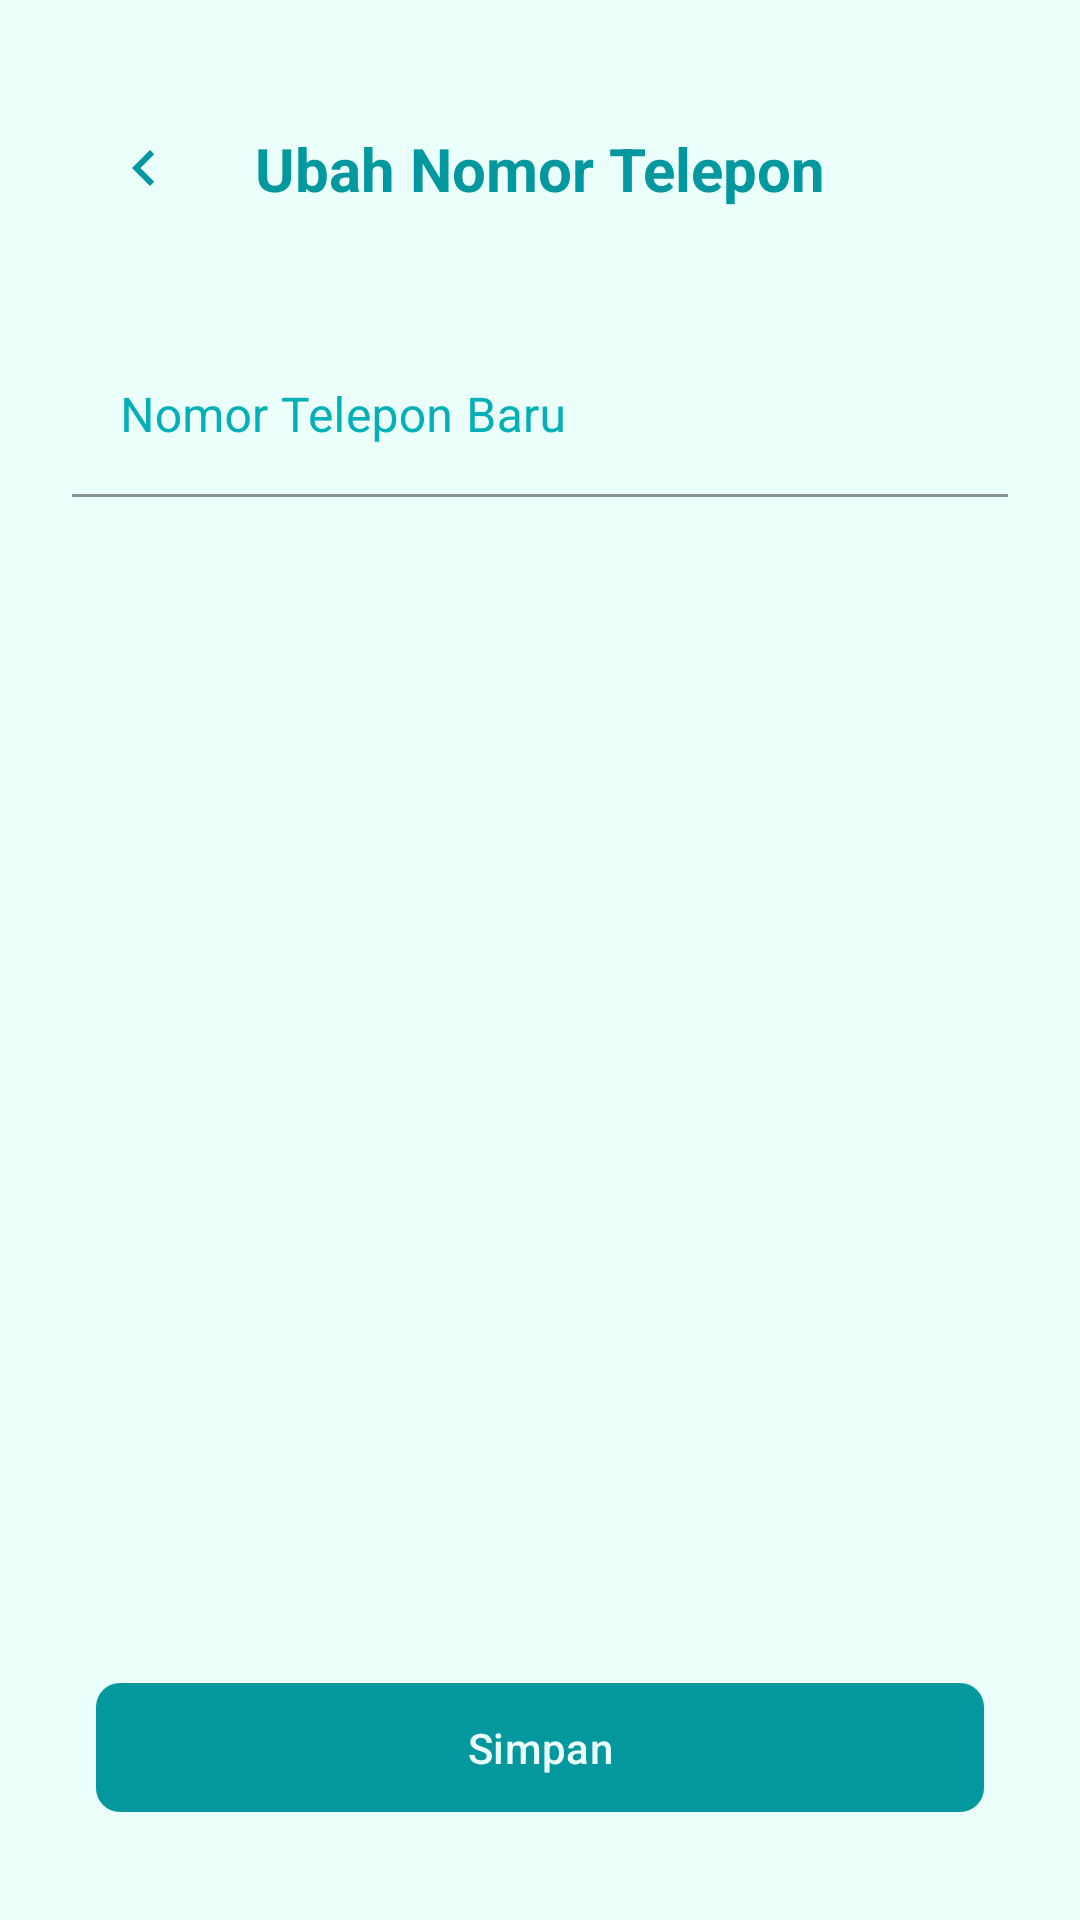

Named icons in this screenshot (1080*1920) and their bounding boxes, (x1,y1,x2,y2):
Kembali: (132,150,154,186)
